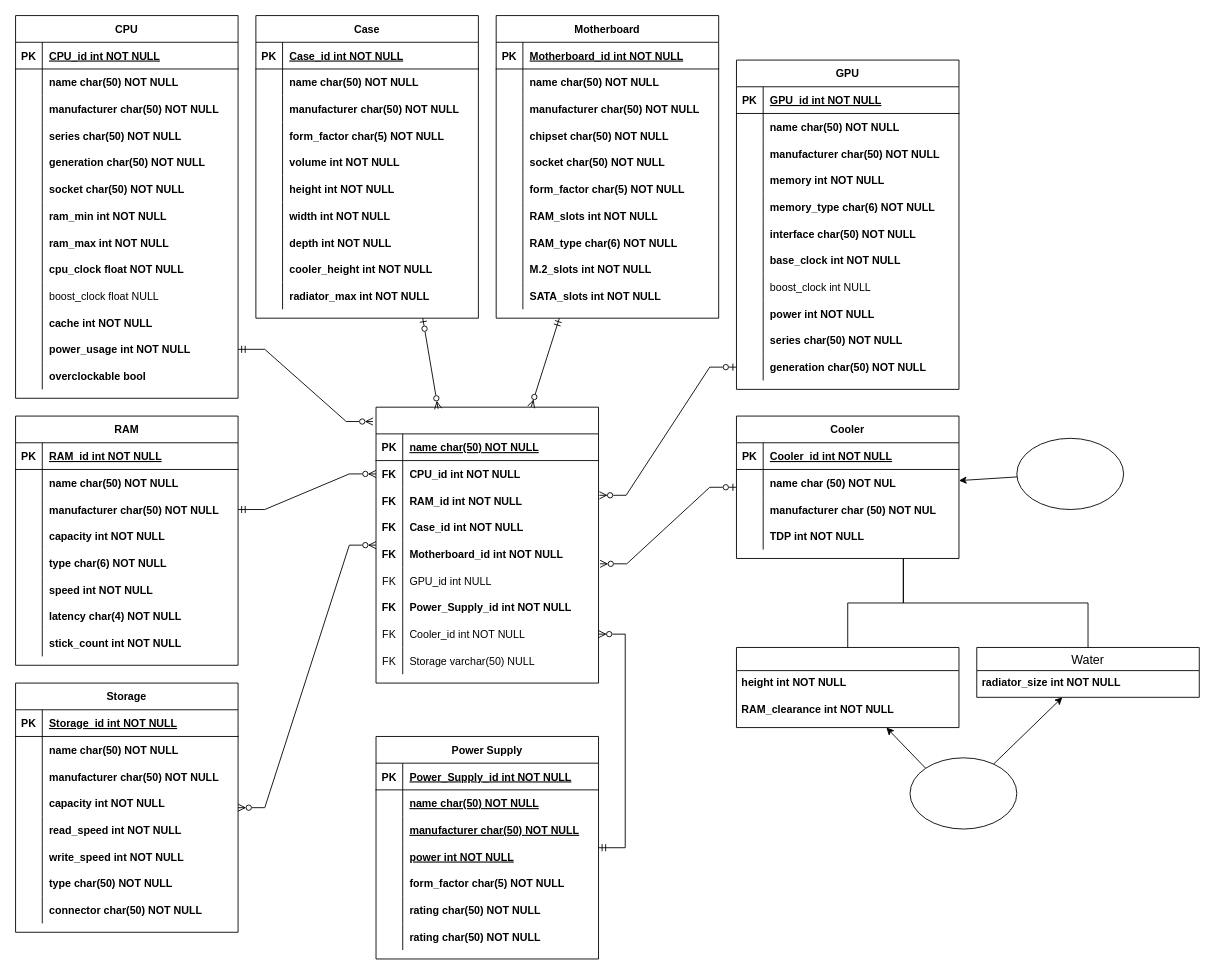
The diagram is 1215 pixels wide and 975 high, and some of its shapes have lost their labels. The shapes that lost their labels are listed below. From the top down, each one's box as (x1, y1, x2, y2) in pixels, then its label:
(1016, 437, 1124, 510): super class
(375, 406, 599, 683): Computer
(736, 647, 959, 728): Air
(909, 757, 1017, 829): sub classes
